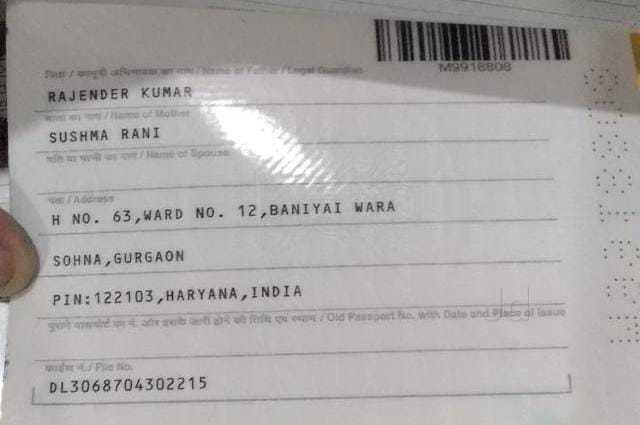File_no: (35, 373, 215, 395)
address: (44, 196, 415, 306)
father_name: (36, 82, 207, 109)
mother_name: (44, 125, 170, 149)
passport_no: (427, 55, 527, 80)
